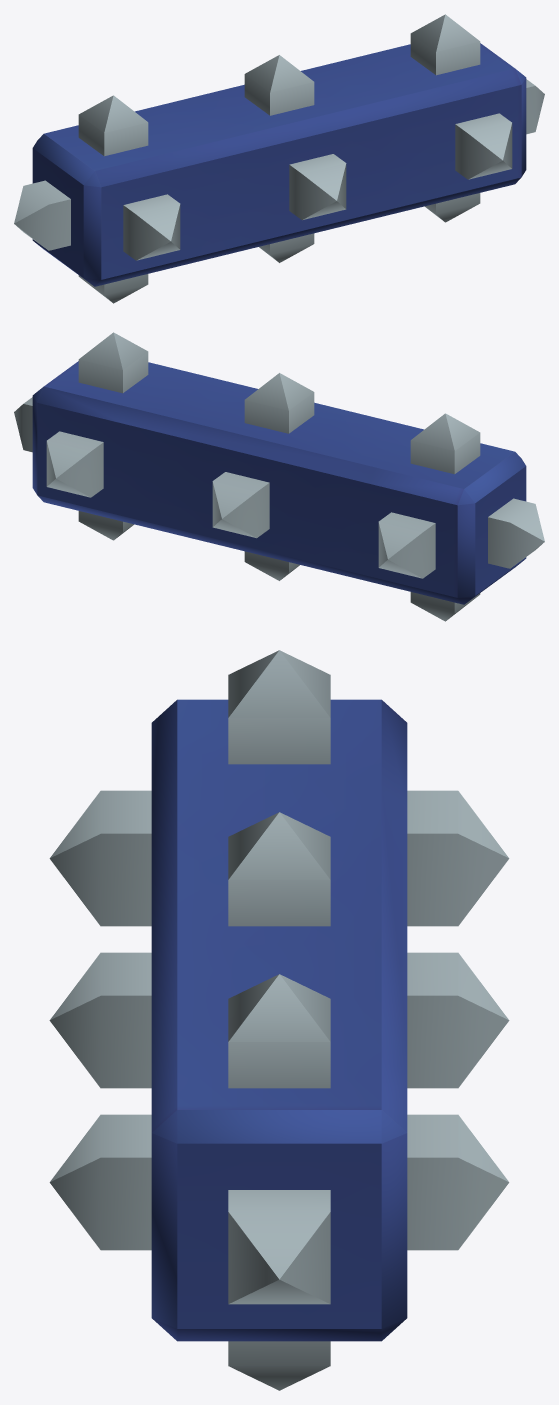
Rendered from spikeBlockWide.glb.
3 views of the same model, one above another, from view 1: azimuth 30°, elevation 25°; view 2: azimuth 150°, elevation 25°; view 3: azimuth 270°, elevation 25° (orthographic). The views are drawn at different scales.
Parts seen in each view (by area): view 1: spikeBlockWide; view 2: spikeBlockWide; view 3: spikeBlockWide.
Boxes of the visible parts, x1=… form: spikeBlockWide: x1=14, y1=14, x2=544, y2=303; spikeBlockWide: x1=14, y1=332, x2=544, y2=621; spikeBlockWide: x1=49, y1=650, x2=509, y2=1390.
Bounding box in the file's own units: 2.4 × 0.9 × 0.9.
1 material, 1 textured.
